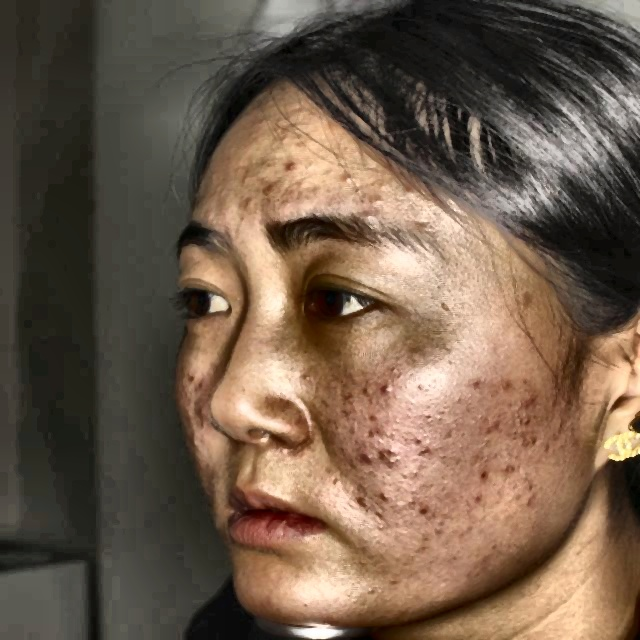papule: (280, 147, 310, 177), (402, 428, 434, 455), (517, 387, 546, 410), (353, 442, 377, 467), (472, 489, 495, 515), (476, 414, 502, 435), (265, 182, 290, 202), (417, 502, 443, 517), (472, 469, 495, 482), (495, 374, 514, 388), (357, 490, 366, 508)
